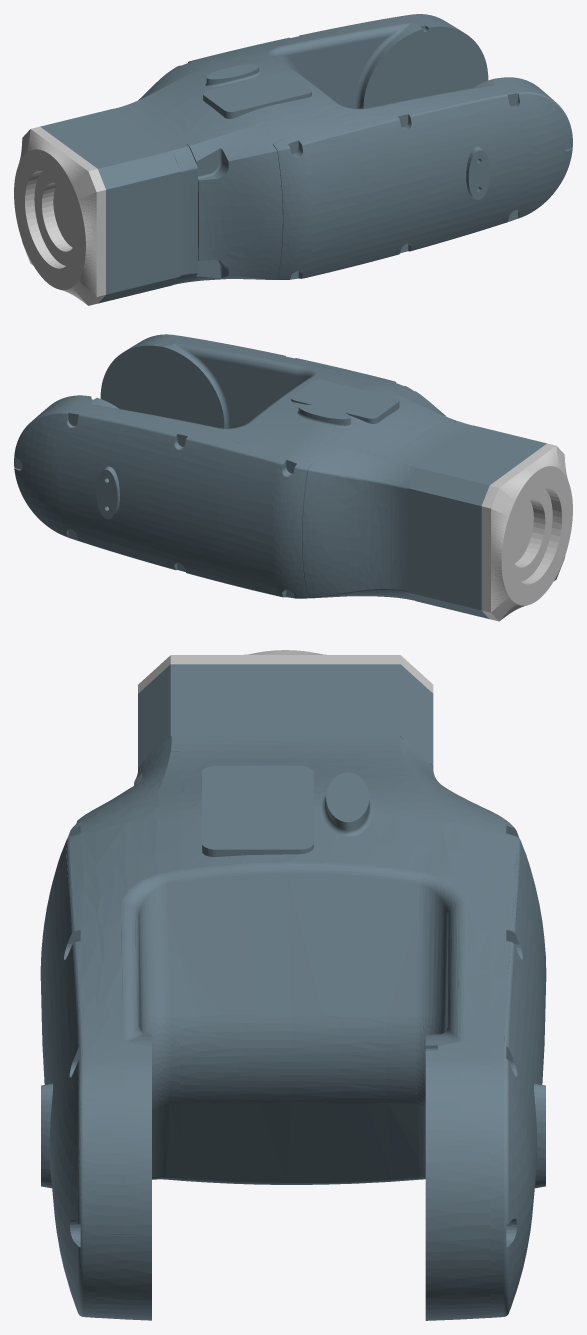
3 views of the same model, one above another, from view 1: azimuth 30°, elevation 25°; view 2: azimuth 150°, elevation 25°; view 3: azimuth 270°, elevation 25° (orthographic). The views are drawn at different scales.
Parts seen in each view (by area): view 1: link4_modified; view 2: link4_modified; view 3: link4_modified.
Boxes of the visible parts, x1,y1,x2,y2 form: link4_modified: (14,14,572,305); link4_modified: (14,334,572,621); link4_modified: (40,650,546,1320).
Bounding box in the file's own units: 0.3495 × 0.1628 × 0.1208.
